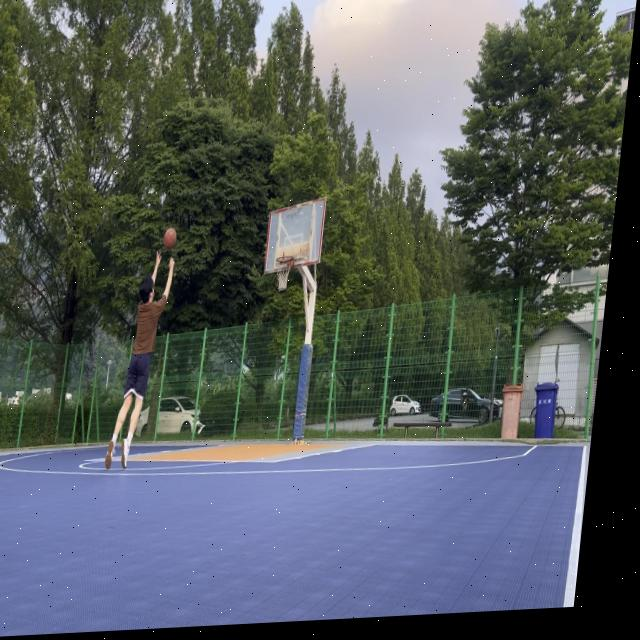basketball: (162, 227, 178, 250)
hoop: (272, 256, 294, 293)
